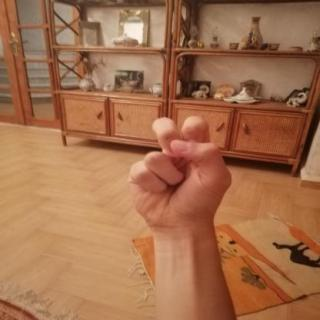QAAF: (114, 108, 246, 245)
